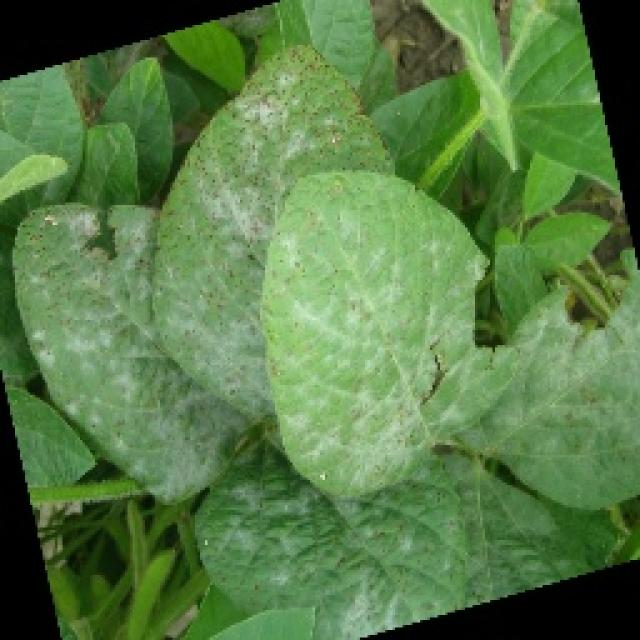Powdery Mildew: (147, 40, 395, 422), (258, 165, 490, 500), (8, 197, 248, 505)
